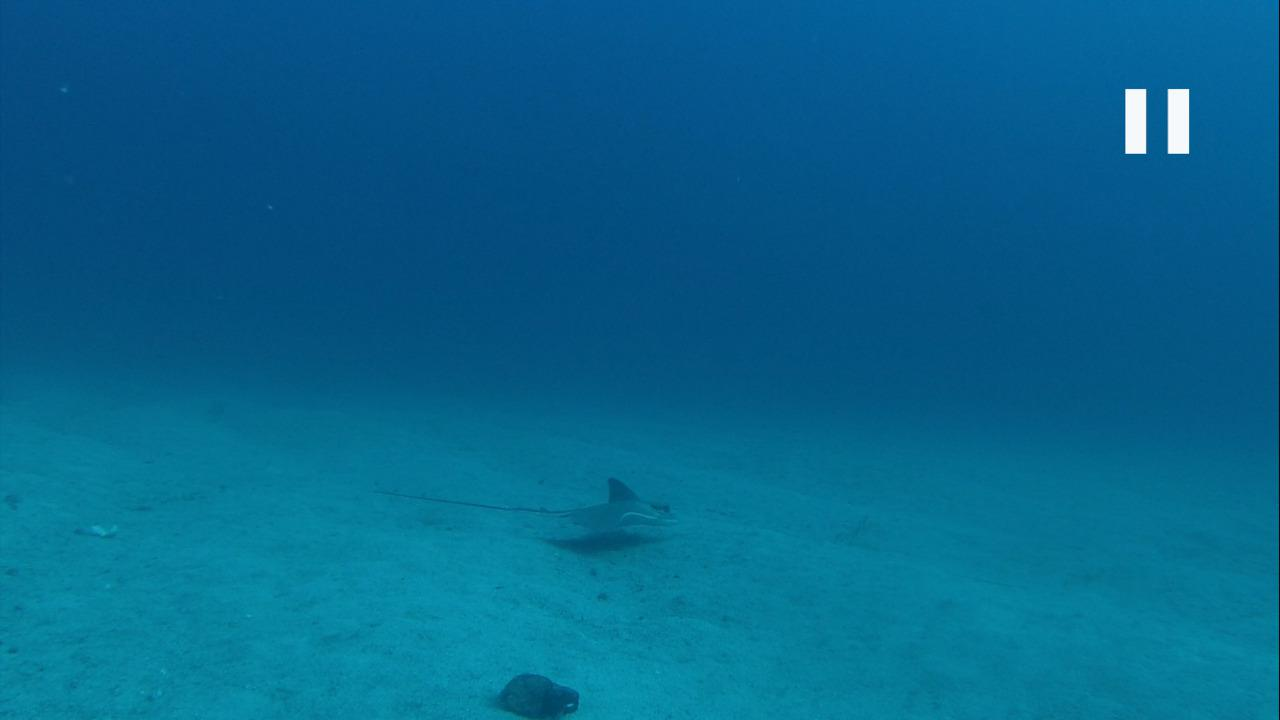myliobatis: (384, 473, 682, 546)
